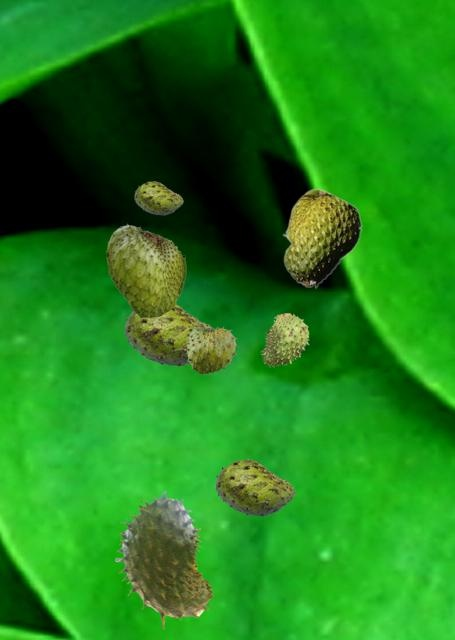guyabano: (115, 491, 213, 628), (282, 188, 361, 288), (106, 223, 185, 317), (124, 304, 211, 365), (215, 459, 294, 515), (185, 324, 237, 373), (260, 313, 308, 366), (134, 181, 182, 214)
